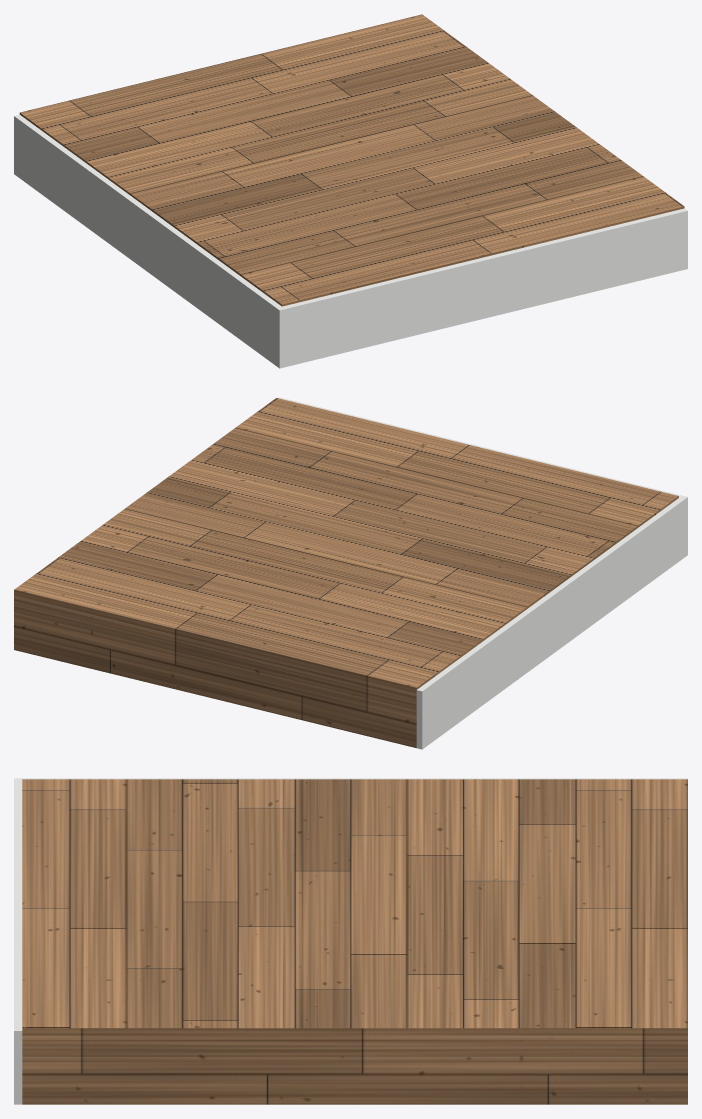
Rendered from porch_deck_end_l.glb.
3 renders of one model, top to bottom at view 1: azimuth 30°, elevation 25°; view 2: azimuth 150°, elevation 25°; view 3: azimuth 270°, elevation 25°, orthographic. The views are drawn at different scales.
Visible parts, largest first — view 1: porch_deck_end_l_deck, porch_deck_end_l_trim; view 2: porch_deck_end_l_deck, porch_deck_end_l_trim; view 3: porch_deck_end_l_deck, porch_deck_end_l_trim.
Part boxes in pixels (x1,y1,x2,y2): porch_deck_end_l_deck: (19, 14, 684, 306); porch_deck_end_l_trim: (14, 114, 687, 368); porch_deck_end_l_deck: (14, 398, 678, 747); porch_deck_end_l_trim: (279, 397, 687, 749); porch_deck_end_l_deck: (22, 779, 687, 1104); porch_deck_end_l_trim: (14, 778, 687, 1104).
Bounding box in the file's own units: 2.13 × 0.3 × 2.4.
Materials: 2 (1 with a texture image).
